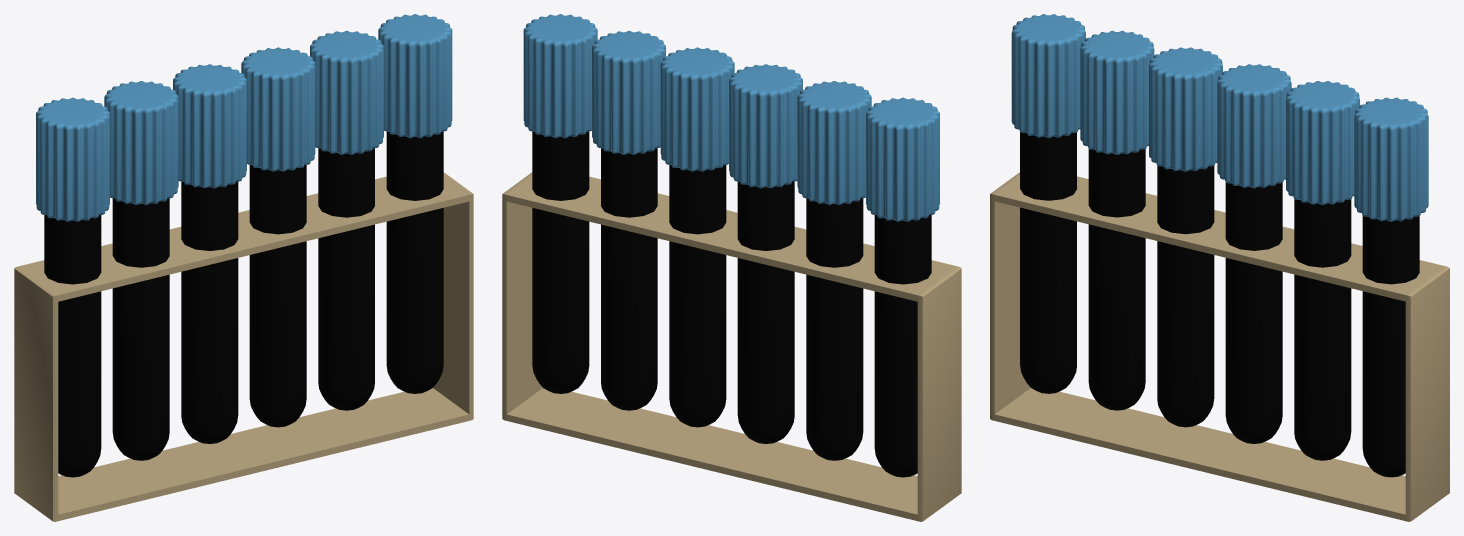
File: EH Vile Holder Single.fbx
3 views of the same model, side by side, from view 1: azimuth 30°, elevation 25°; view 2: azimuth 150°, elevation 25°; view 3: azimuth 330°, elevation 25° (orthographic).
Parts seen in each view (by area): view 1: Capsule006, Capsule012, Capsule004, Capsule008, Capsule010, Capsule001, Box013, Star001, Star002, Star006, Star004, Star003 (+14 smaller); view 2: Capsule006, Capsule012, Capsule004, Capsule008, Capsule010, Capsule001, Box013, Star001, Star002, Star006, Star004, Star003 (+14 smaller); view 3: Capsule004, Capsule010, Capsule008, Capsule006, Capsule001, Capsule012, Box014, Star006, Star001, Star002, Star005, Star003 (+14 smaller).
Boxes of the visible parts, bbox=[...] form: Capsule006: bbox=[181, 181, 238, 443]; Capsule012: bbox=[386, 131, 443, 393]; Capsule004: bbox=[112, 198, 169, 460]; Capsule008: bbox=[249, 165, 306, 427]; Capsule010: bbox=[318, 148, 374, 410]; Capsule001: bbox=[44, 215, 101, 477]; Box013: bbox=[14, 266, 58, 521]; Star001: bbox=[36, 97, 109, 221]; Star002: bbox=[104, 81, 178, 205]; Star006: bbox=[378, 14, 452, 138]; Star004: bbox=[241, 47, 315, 171]; Star003: bbox=[173, 64, 246, 188]; Capsule006: bbox=[737, 181, 794, 443]; Capsule012: bbox=[532, 131, 589, 393]; Capsule004: bbox=[806, 198, 863, 460]; Capsule008: bbox=[669, 165, 726, 427]; Capsule010: bbox=[601, 148, 657, 410]; Capsule001: bbox=[874, 215, 931, 477]; Box013: bbox=[917, 266, 961, 521]; Star001: bbox=[866, 97, 939, 221]; Star002: bbox=[797, 81, 871, 205]; Star006: bbox=[523, 14, 597, 138]; Star004: bbox=[660, 47, 734, 171]; Star003: bbox=[729, 64, 802, 188]; Capsule004: bbox=[1088, 149, 1145, 410]; Capsule010: bbox=[1294, 199, 1351, 460]; Capsule008: bbox=[1225, 182, 1282, 443]; Capsule006: bbox=[1157, 166, 1214, 427]; Capsule001: bbox=[1020, 132, 1076, 393]; Capsule012: bbox=[1362, 216, 1419, 477]; Box014: bbox=[1405, 266, 1449, 521]; Star006: bbox=[1354, 97, 1428, 221]; Star001: bbox=[1011, 14, 1085, 138]; Star002: bbox=[1080, 30, 1154, 154]; Star005: bbox=[1286, 81, 1359, 205]; Star003: bbox=[1149, 47, 1222, 171].
Size of the model in its own units: 61.64 by 53.92 by 10.
